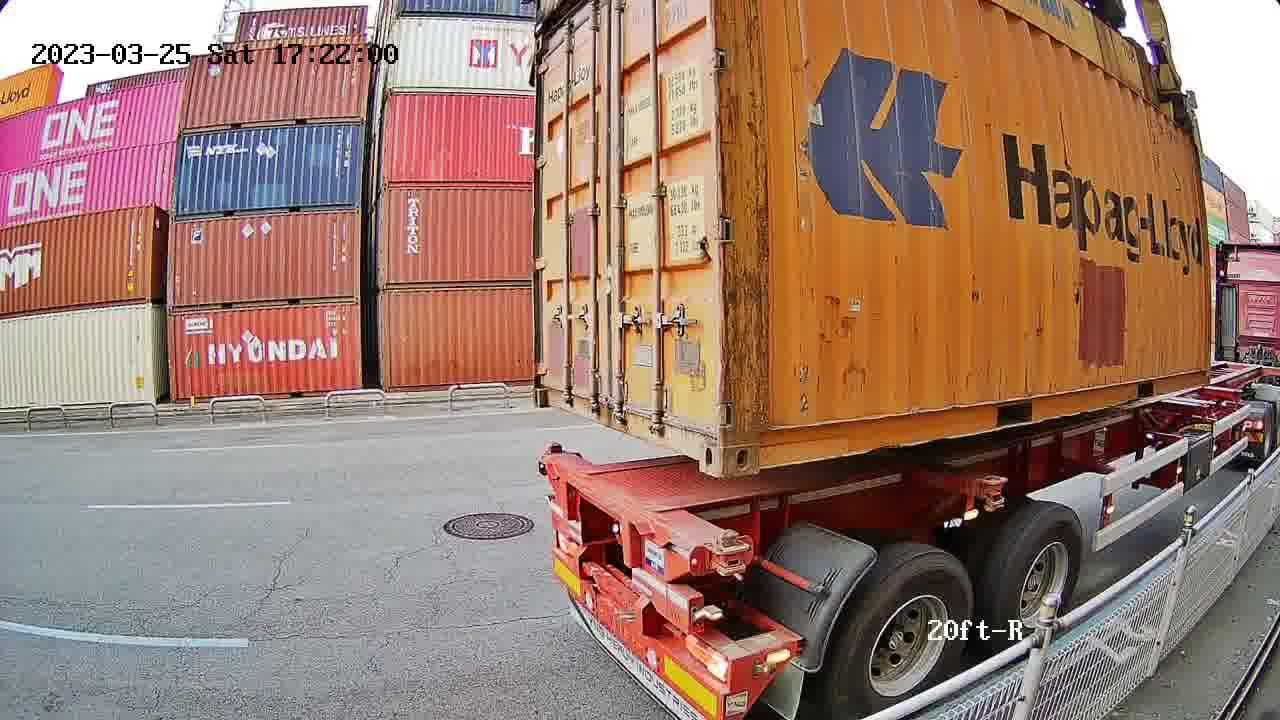Chassis: (541, 452, 746, 583)
Cone: (713, 530, 748, 580), (543, 440, 565, 457)
Hole_L: (723, 401, 792, 479), (532, 367, 565, 411)
Hole_R: (680, 402, 719, 475)
Tire: (833, 553, 974, 719), (1001, 509, 1086, 649)
